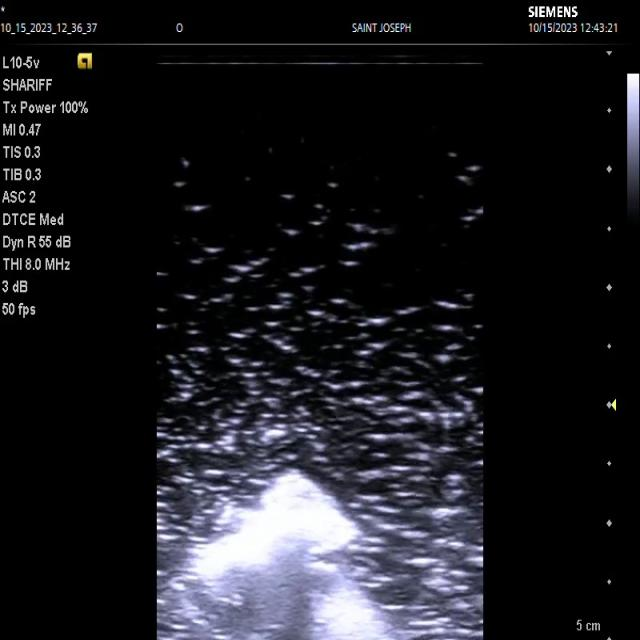tissue: (158, 475, 409, 640)
